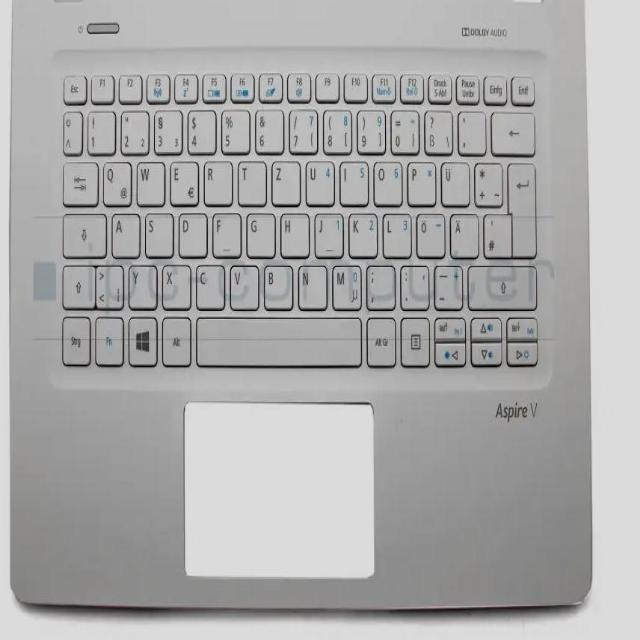0: (389, 107, 419, 153)
1: (85, 109, 115, 155)
2: (119, 107, 149, 153)
3: (152, 107, 182, 153)
4: (186, 107, 215, 153)
5: (220, 107, 249, 152)
6: (254, 107, 283, 152)
7: (288, 107, 317, 152)
8: (322, 107, 351, 153)
9: (355, 107, 385, 152)
a: (110, 211, 139, 257)
accent: (456, 108, 485, 153)
ae: (447, 211, 478, 258)
alt-left: (160, 313, 191, 366)
altgr-right: (365, 313, 395, 366)
b: (262, 263, 292, 309)
c: (195, 263, 225, 309)
caret: (62, 108, 82, 153)
comma: (364, 263, 395, 309)
d: (178, 209, 207, 257)
del: (489, 110, 534, 154)
e: (168, 158, 198, 205)
enter: (506, 158, 536, 258)
f: (211, 209, 240, 257)
g: (245, 211, 275, 257)
h: (278, 211, 309, 257)
hash: (482, 211, 511, 257)
i: (338, 159, 368, 204)
j: (313, 209, 343, 257)
k: (347, 211, 377, 257)
keyboard: (49, 51, 547, 390)
l: (382, 209, 411, 257)
less: (94, 262, 124, 308)
m: (331, 263, 361, 309)
minus: (431, 263, 462, 309)
n: (296, 263, 327, 309)
o: (372, 159, 402, 205)
oe: (415, 211, 444, 257)
p: (405, 159, 435, 205)
plus: (473, 159, 503, 206)
point: (398, 263, 428, 309)
q: (101, 159, 131, 204)
r: (203, 158, 232, 205)
s: (143, 209, 172, 257)
shift-left: (61, 262, 94, 308)
shift-lock: (61, 211, 106, 257)
shift-right: (464, 261, 536, 310)
space: (194, 312, 362, 367)
ss: (423, 107, 452, 153)
strg-left: (60, 315, 91, 367)
t: (237, 158, 266, 205)
tab: (61, 158, 98, 205)
u: (304, 158, 334, 205)
ue: (439, 159, 468, 205)
v: (228, 261, 259, 309)
w: (135, 159, 164, 204)
x: (160, 261, 191, 309)
y: (126, 263, 157, 309)
z: (270, 158, 299, 205)
